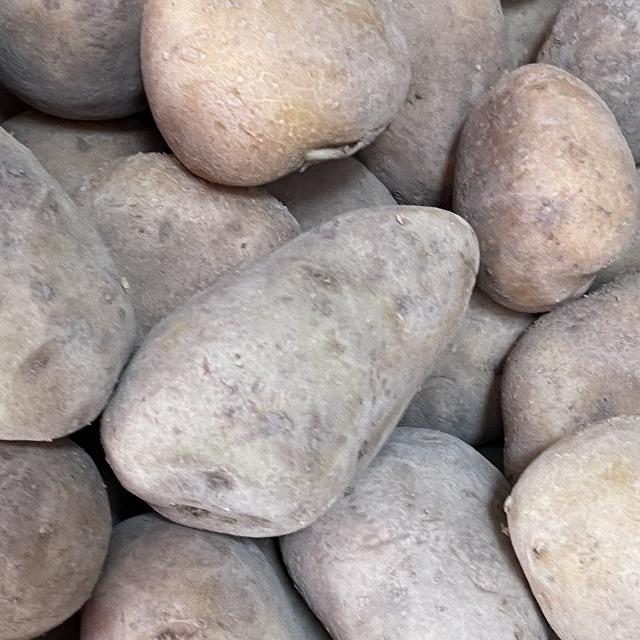potato: (98, 165, 528, 542), (445, 50, 640, 320), (0, 60, 135, 445), (117, 0, 422, 167), (65, 482, 340, 640)
